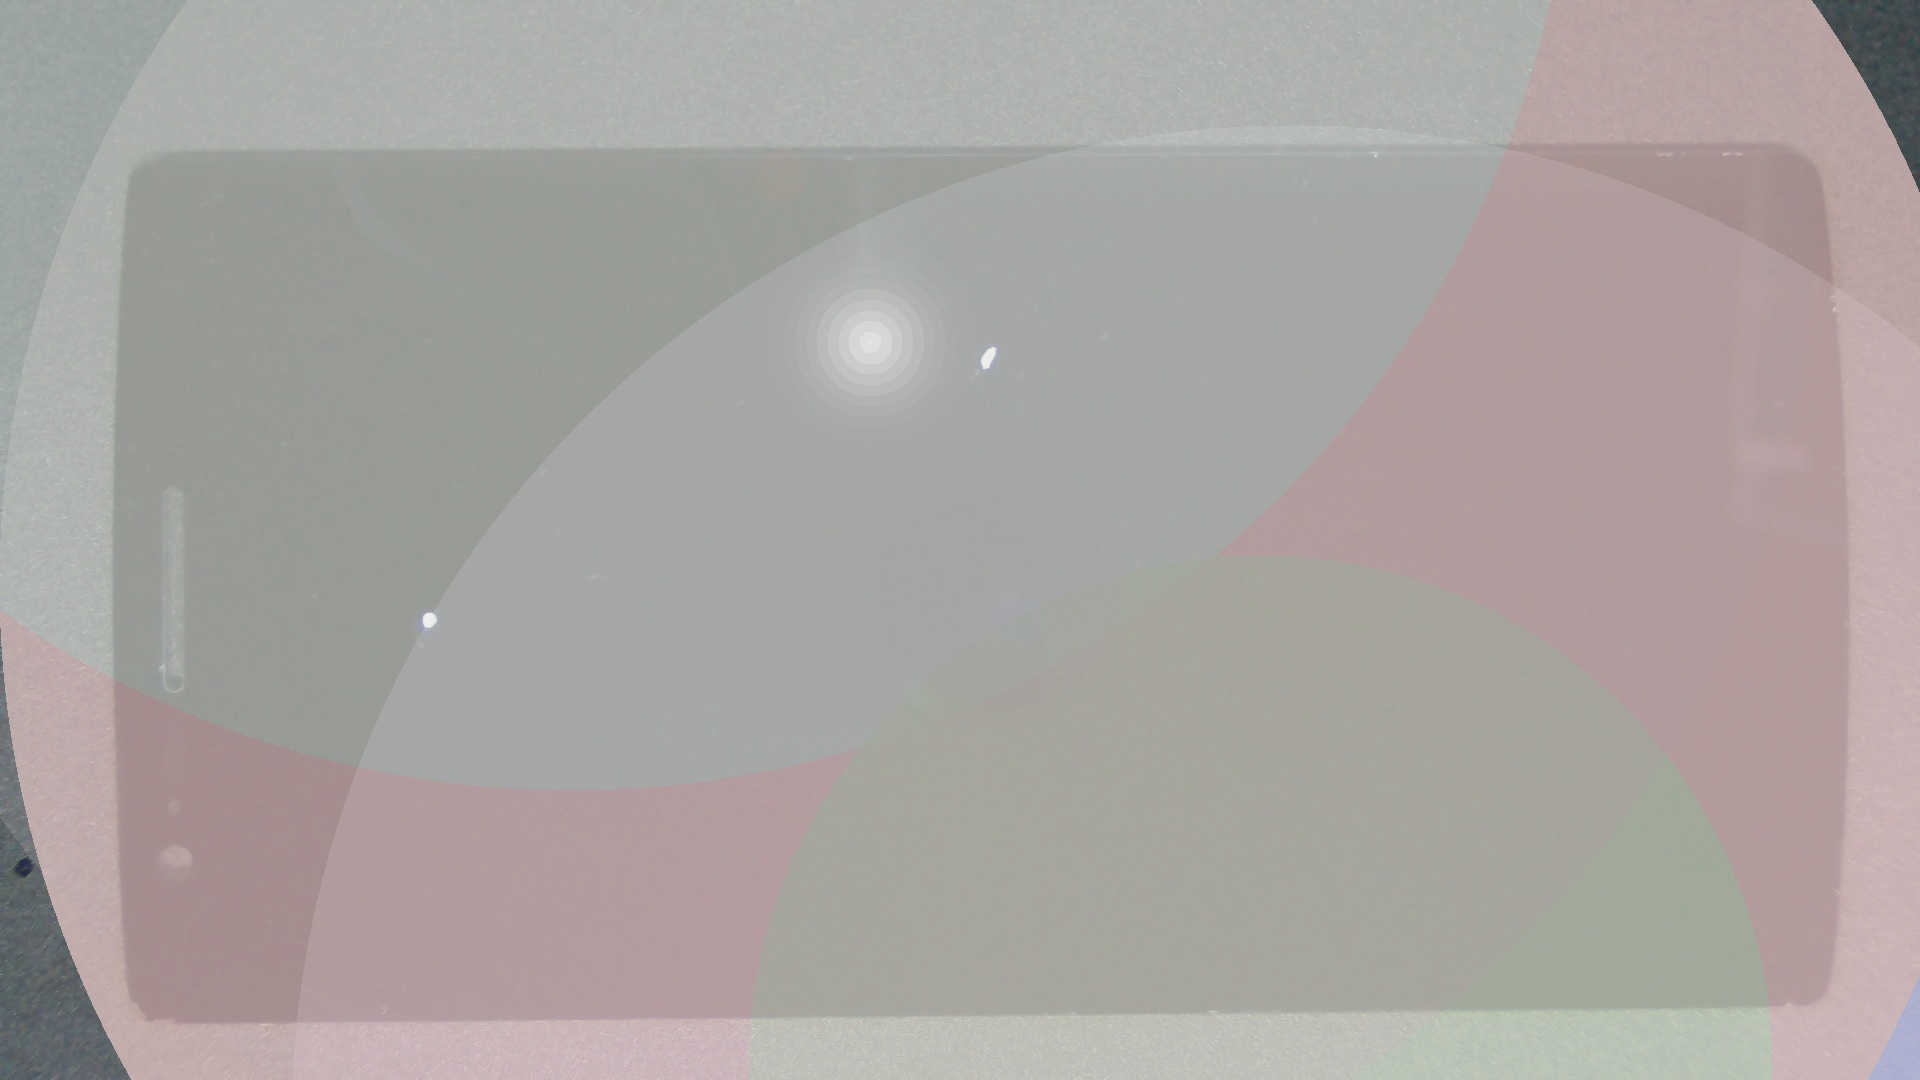oil: (497, 171, 1487, 518), (214, 305, 638, 916)
